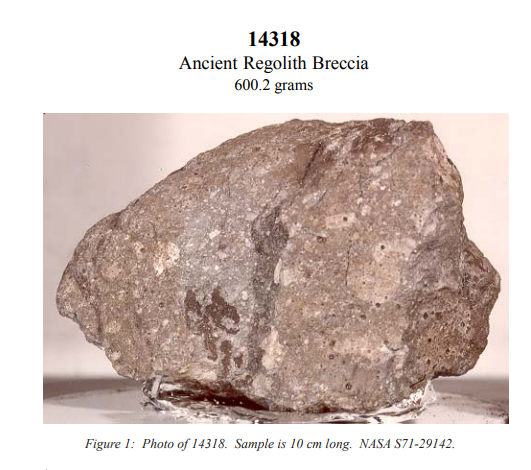Breccia: (52, 117, 507, 411), (118, 169, 375, 352)
